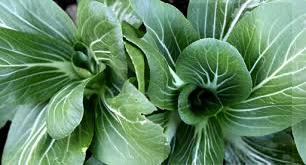Healthy-Pechay: (13, 4, 295, 141)
